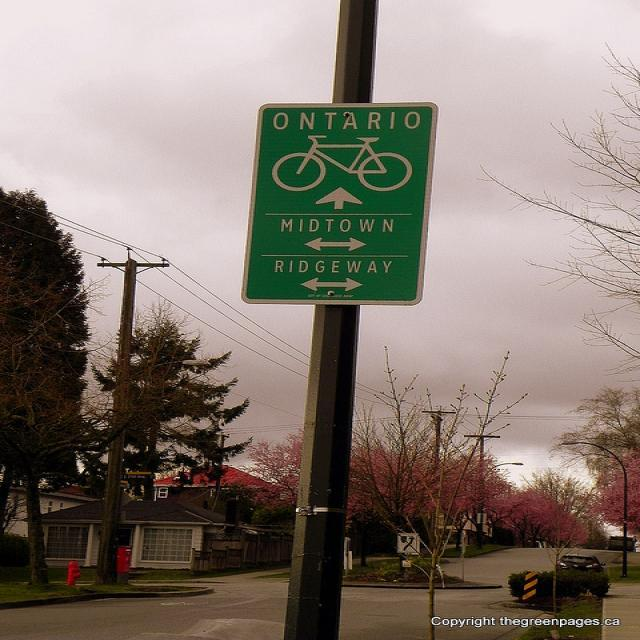fire_hydrant: (62, 559, 82, 586)
